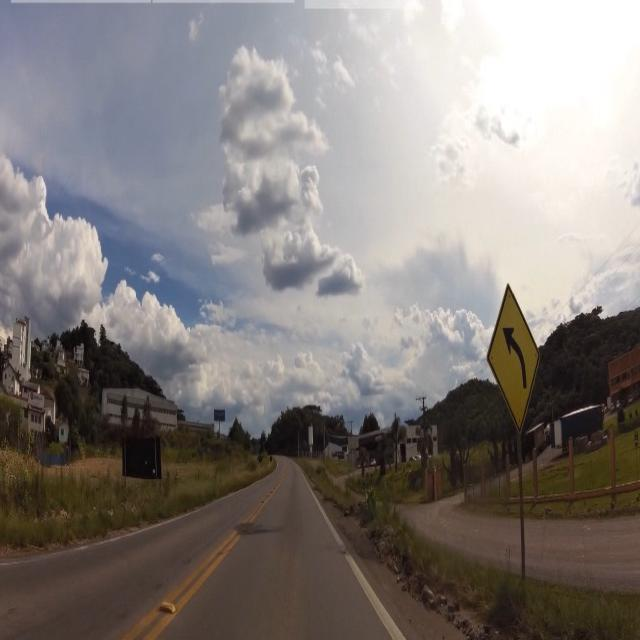A-2a: (483, 284, 548, 422)
